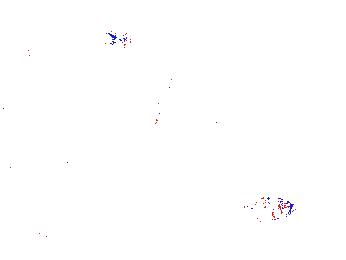X-ray fish: (241, 195, 296, 221), (20, 132, 63, 156), (17, 41, 41, 62)
glassfish: (192, 105, 300, 165), (141, 83, 165, 134)
red belly glassfish: (108, 29, 134, 50)
